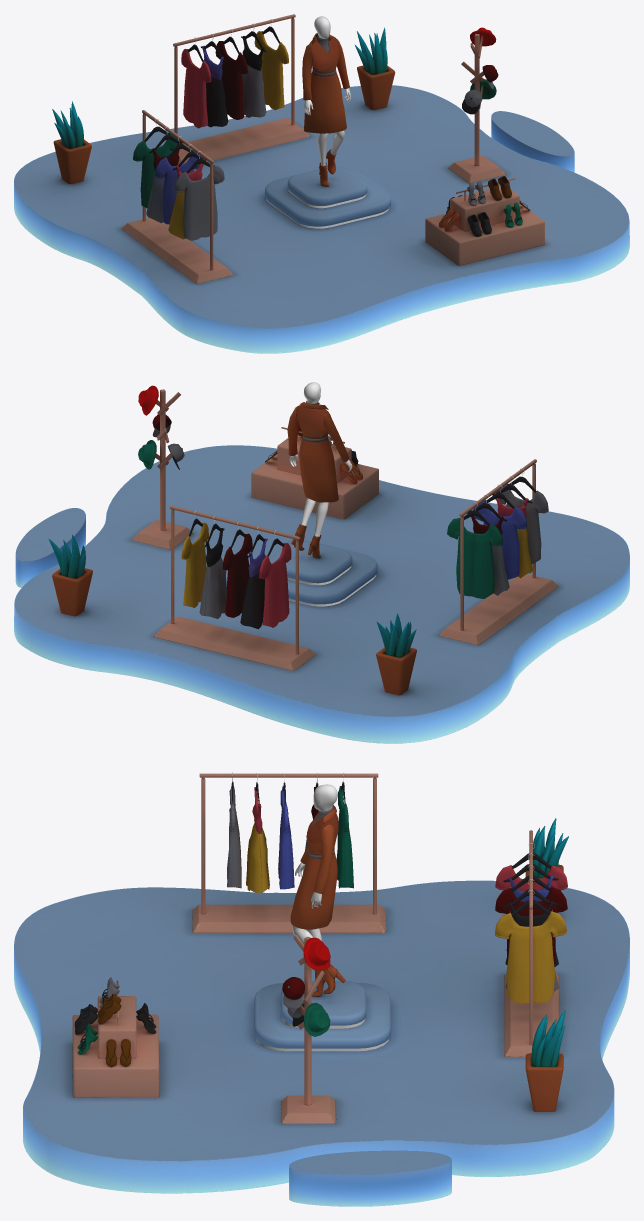
Rendered from LeviCam.glb.
3 renders of one model, top to bottom at view 1: azimuth 30°, elevation 25°; view 2: azimuth 150°, elevation 25°; view 3: azimuth 270°, elevation 25°, orthographic. The views are drawn at different scales.
Parts seen in each view (by area): view 1: LeviCamBs, LeviCamSet, LeviCamManneBody, LeviCamBsGlw; view 2: LeviCamBs, LeviCamSet, LeviCamManneBody; view 3: LeviCamBs, LeviCamSet, LeviCamManneBody, LeviCamBsGlw.
Part boxes in pixels (<box>): LeviCamBs: <box>14,85,629,353</box>; LeviCamSet: <box>52,14,544,283</box>; LeviCamManneBody: <box>304,16,350,166</box>; LeviCamBsGlw: <box>266,190,389,228</box>; LeviCamBs: <box>14,445,629,743</box>; LeviCamSet: <box>48,385,558,695</box>; LeviCamManneBody: <box>289,382,352,536</box>; LeviCamBs: <box>14,880,629,1206</box>; LeviCamSet: <box>72,772,568,1123</box>; LeviCamManneBody: <box>292,784,337,944</box>; LeviCamBsGlw: <box>255,1018,389,1051</box>.
Bounding box in the file's own units: 5.39 × 2.29 × 4.77.
Materials: 5 (2 with a texture image).
